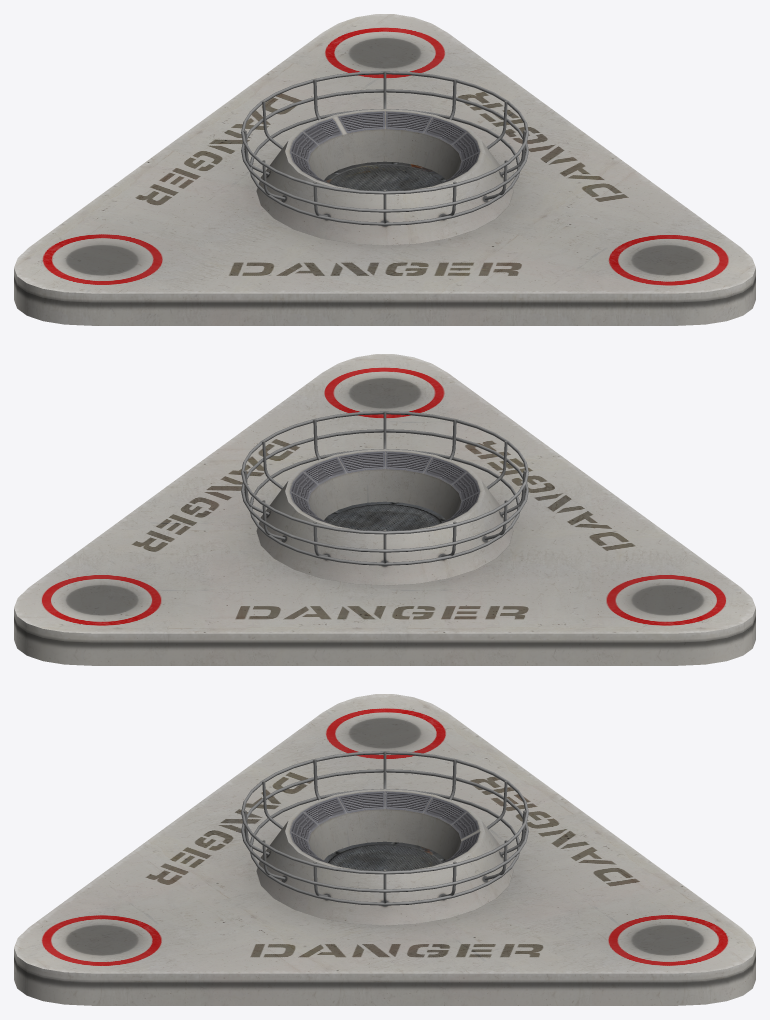
Rendered from MegaFlierBase.fbx.
3 views of the same model, one above another, from view 1: azimuth 30°, elevation 25°; view 2: azimuth 150°, elevation 25°; view 3: azimuth 270°, elevation 25° (orthographic).
Parts seen in each view (by area): view 1: base; view 2: base; view 3: base.
Boxes of the visible parts, <box> form: base: <box>14,14,755,325</box>; base: <box>14,354,755,665</box>; base: <box>14,694,755,1005</box>.
Bounding box in the file's own units: 853 × 132 × 957.
1 material, 1 textured.
